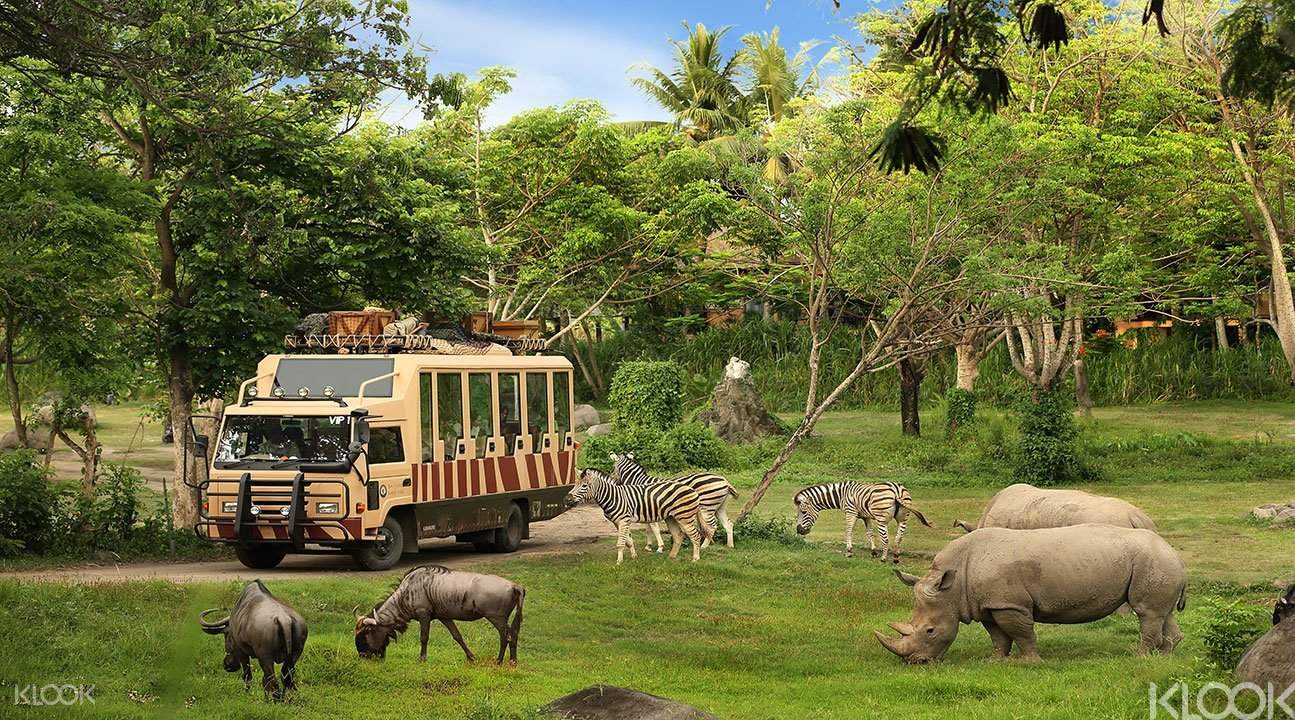car: (199, 354, 574, 569)
zebra: (795, 481, 931, 561)
